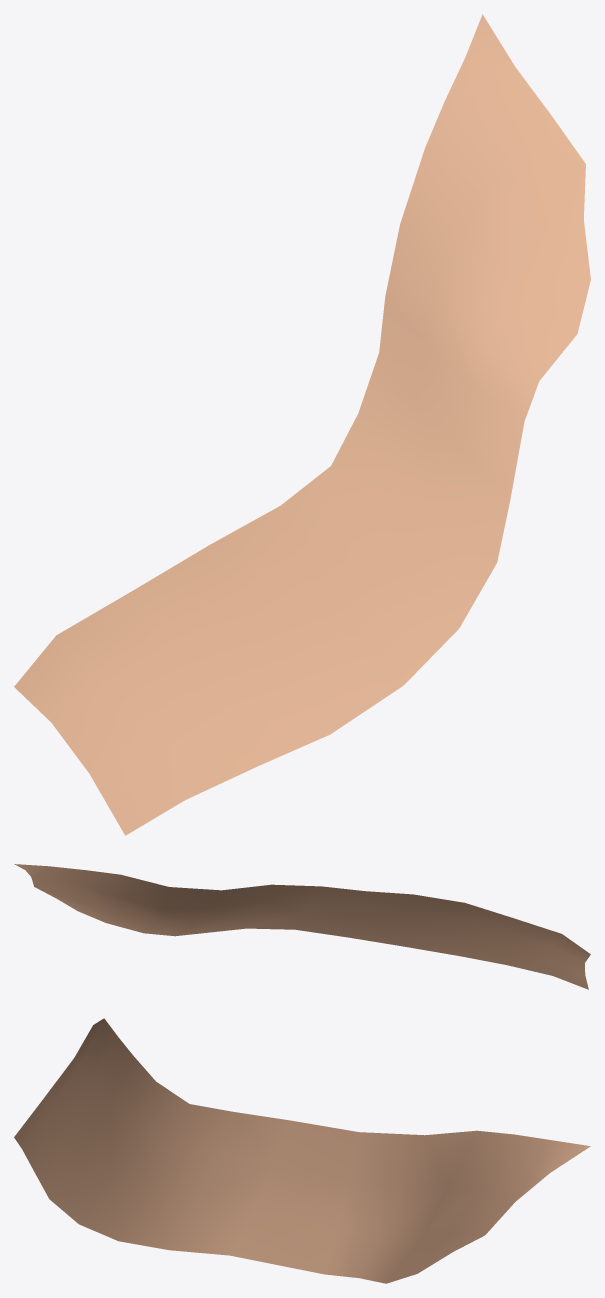
Rendered from infraclavicular-fossa-l.glb.
3 views of the same model, one above another, from view 1: azimuth 30°, elevation 25°; view 2: azimuth 150°, elevation 25°; view 3: azimuth 270°, elevation 25° (orthographic). The views are drawn at different scales.
Parts seen in each view (by area): view 1: Infraclavicular fossa.l; view 2: Infraclavicular fossa.l; view 3: Infraclavicular fossa.l.
Part boxes in pixels (<box>): Infraclavicular fossa.l: <box>14,14,590,835</box>; Infraclavicular fossa.l: <box>14,864,590,989</box>; Infraclavicular fossa.l: <box>14,1018,590,1283</box>.
Bounding box in the file's own units: 0.1256 × 0.0506 × 0.1015.
